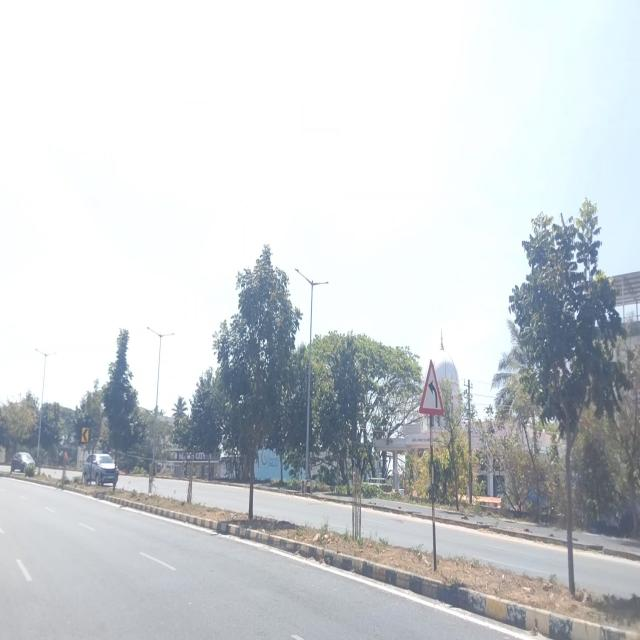bien_cam: (418, 358, 445, 417)
